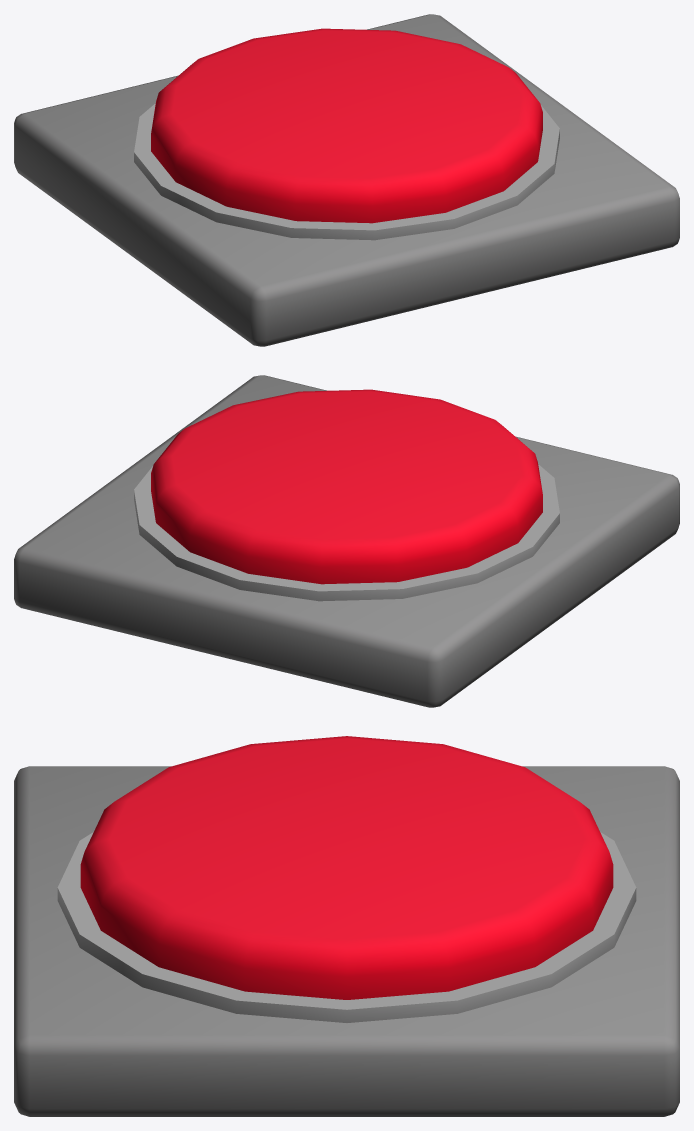
Rendered from Prop_Button_02.fbx.
3 renders of one model, top to bottom at view 1: azimuth 30°, elevation 25°; view 2: azimuth 150°, elevation 25°; view 3: azimuth 270°, elevation 25°, orthographic. The views are drawn at different scales.
Parts seen in each view (by area): view 1: Prop_Button_02, Prop_Button_02_Button.001; view 2: Prop_Button_02, Prop_Button_02_Button.001; view 3: Prop_Button_02, Prop_Button_02_Button.001.
Part boxes in pixels (x1=…): Prop_Button_02: x1=14, y1=14, x2=679, y2=346; Prop_Button_02_Button.001: x1=151, y1=28, x2=542, y2=223; Prop_Button_02: x1=14, y1=375, x2=679, y2=707; Prop_Button_02_Button.001: x1=151, y1=389, x2=542, y2=584; Prop_Button_02: x1=14, y1=766, x2=679, y2=1116; Prop_Button_02_Button.001: x1=80, y1=736, x2=613, y2=999.
Size of the model in its own units: 95.26 by 22.6 by 95.26.
